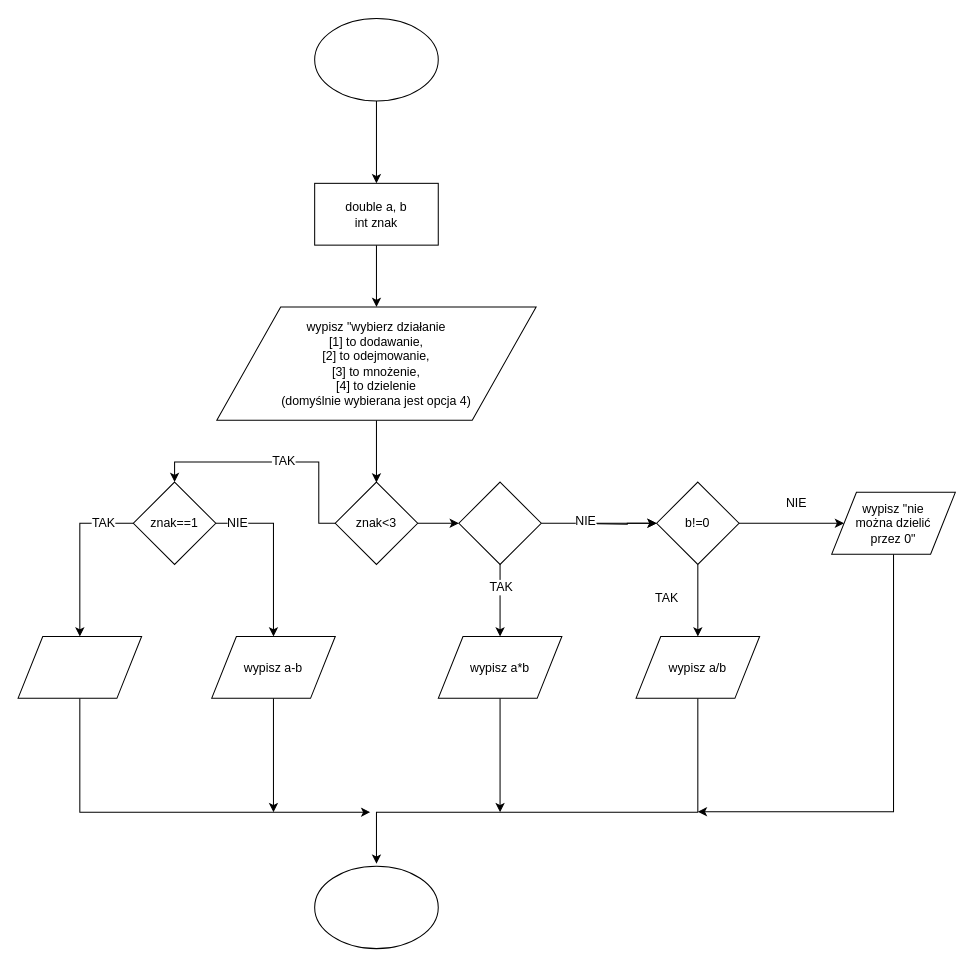
Some shapes in this 973 by 966 pixel diagram are drawn without their labels. The shapes that lost their labels are listed below. From the top down, each one's centre as x and y in pixels, then its label:
At (376,59): "START".
At (499,522): "znak==3".
At (79,667): "wypisz a+b".
At (376,907): "STOP".
